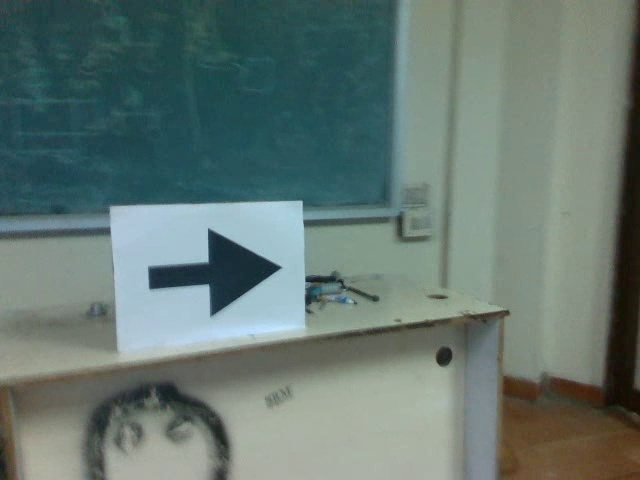Right: (140, 220, 286, 324)
